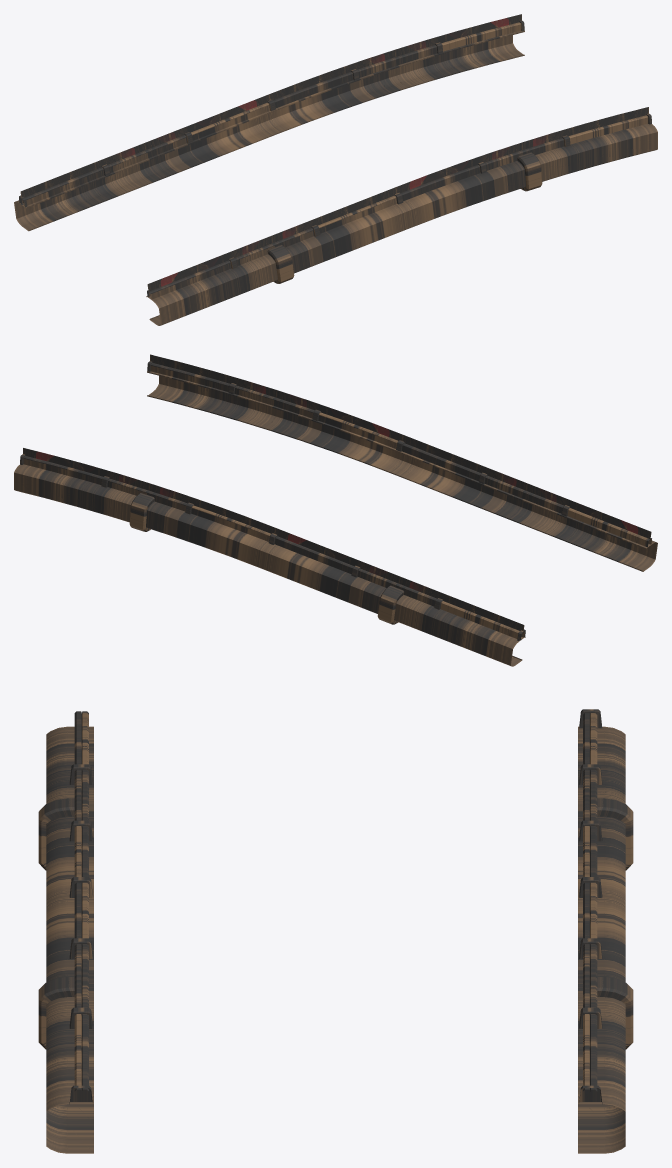
File: Mur_R_8.fbx
The picture shows the model from 3 angles, top to bottom: view 1: azimuth 30°, elevation 25°; view 2: azimuth 150°, elevation 25°; view 3: azimuth 270°, elevation 25°; orthographic projection. The views are drawn at different scales.
Visible parts, largest first — view 1: polySurface231; view 2: polySurface231; view 3: polySurface231.
Boxes of the visible parts, x1,y1,x2,y2 form: polySurface231: (14,14,657,325); polySurface231: (14,354,657,666); polySurface231: (38,709,633,1153).
Bounding box in the file's own units: 29.98 × 5.38 × 15.38.
